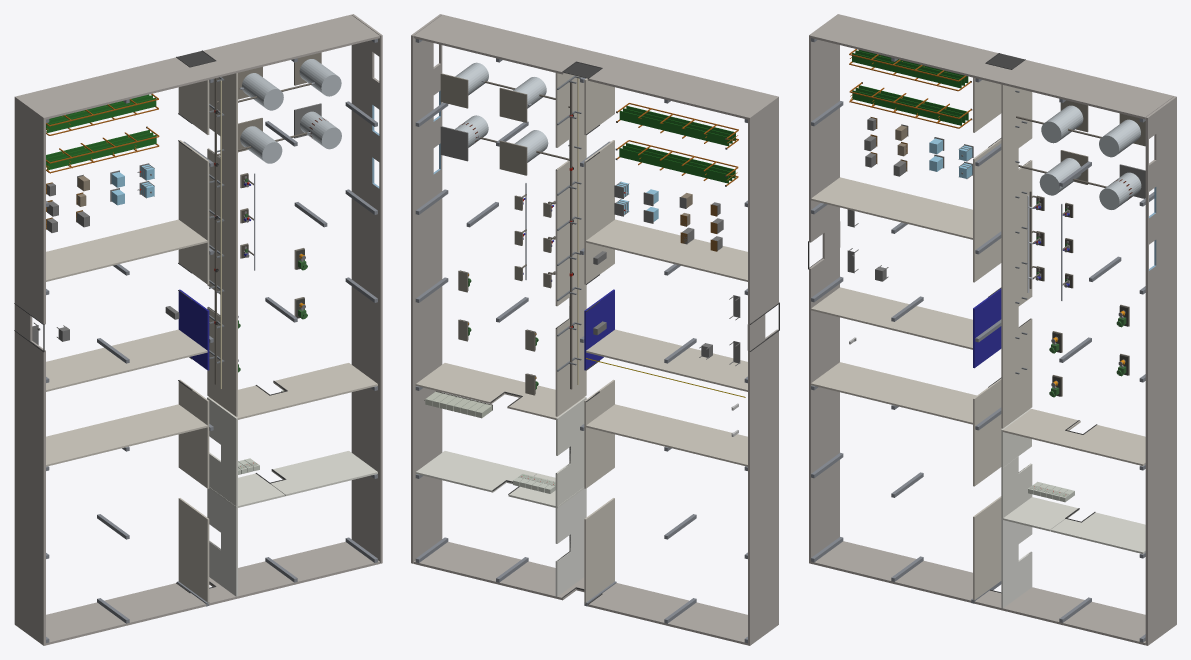
The model's file is inspection_facility_visual.obj.
3 views of the same model, side by side, from view 1: azimuth 30°, elevation 25°; view 2: azimuth 150°, elevation 25°; view 3: azimuth 330°, elevation 25° (orthographic).
Visible parts, largest first — view 1: HELIOS_factory_visual; view 2: HELIOS_factory_visual; view 3: HELIOS_factory_visual.
Boxes of the visible parts, x1=… form: HELIOS_factory_visual: x1=14, y1=14, x2=382, y2=645; HELIOS_factory_visual: x1=411, y1=14, x2=779, y2=645; HELIOS_factory_visual: x1=808, y1=14, x2=1176, y2=645.
Size of the model in its own units: 40.37 by 60.08 by 6.37.
